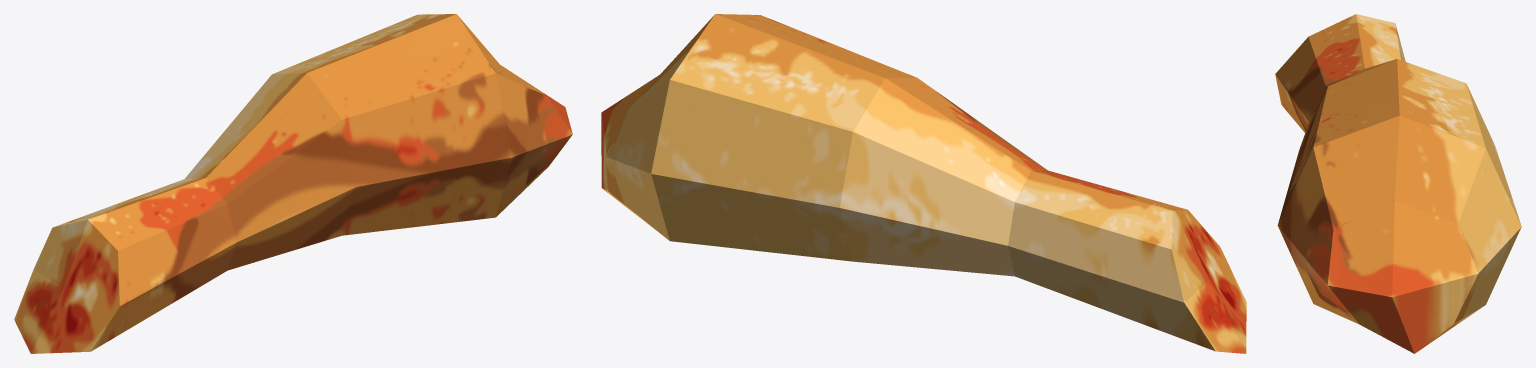
The model's file is food_04.fbx.
3 renders of one model, left to right at view 1: azimuth 30°, elevation 25°; view 2: azimuth 150°, elevation 25°; view 3: azimuth 270°, elevation 25°, orthographic. The views are drawn at different scales.
Parts seen in each view (by area): view 1: food_04; view 2: food_04; view 3: food_04.
Boxes of the visible parts, bbox=[...] form: food_04: bbox=[14, 14, 572, 353]; food_04: bbox=[601, 14, 1246, 353]; food_04: bbox=[1275, 14, 1521, 353].
Bounding box in the file's own units: 1.82 × 0.6634 × 0.6447.
